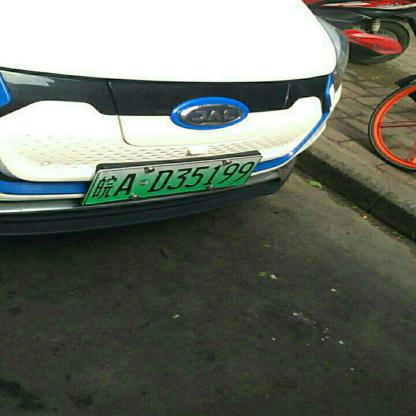lp: (82, 156, 262, 204)
